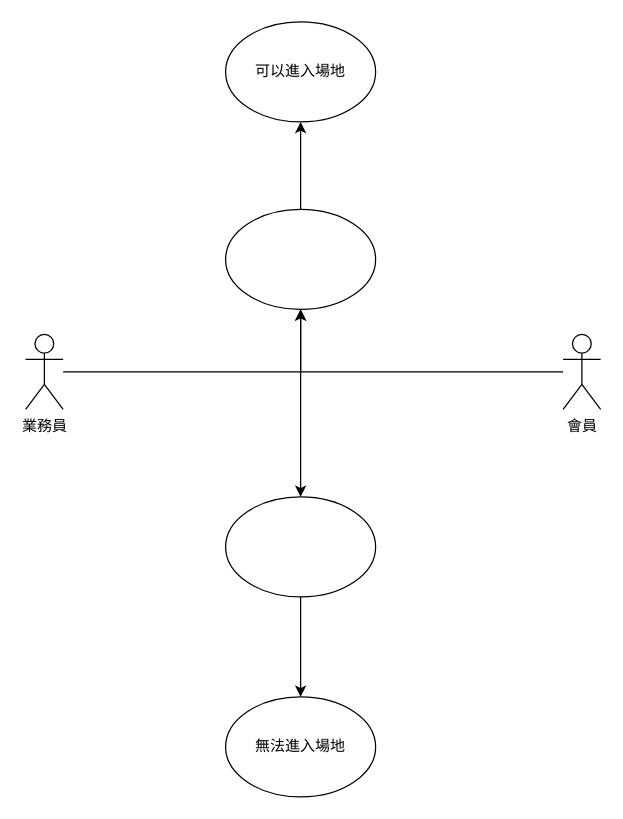
This 623x819 diagram has some shape labels left out. The shapes that lost their labels are listed below. From the top down, each one's centre as x and y in pixels, then its label:
(x=300, y=258): 臉部辨識成功
(x=300, y=546): 臉部辨識失敗
